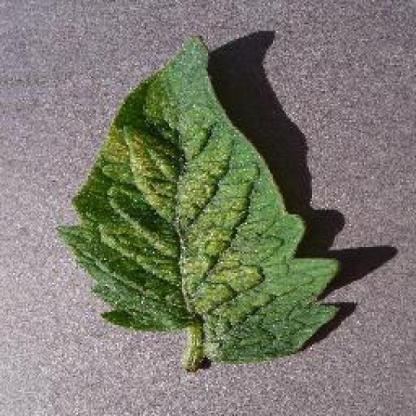Tomato_Spider_Mites: (56, 34, 342, 362)
